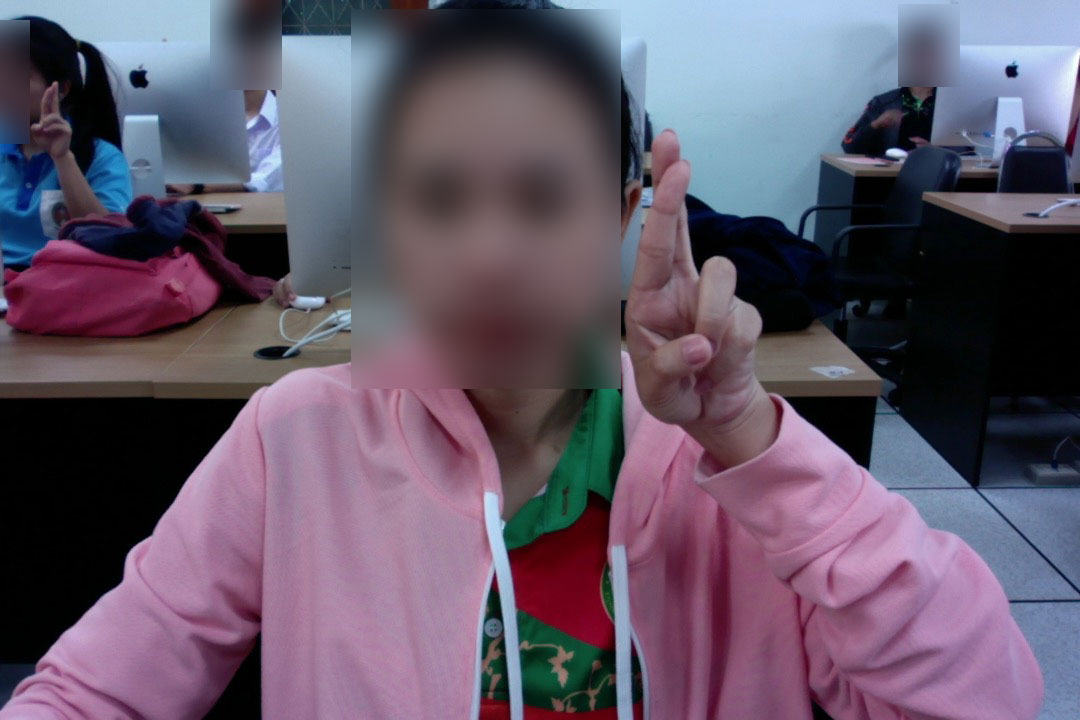rao: (623, 122, 777, 434)
